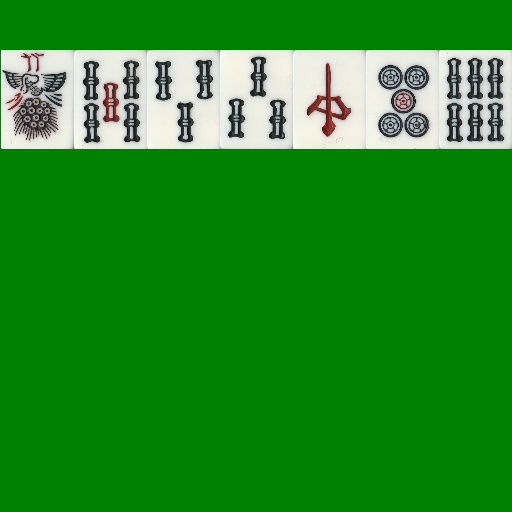1s: (1, 50, 74, 149)
3s: (147, 50, 220, 149), (220, 50, 293, 149)
5p: (366, 50, 439, 149)
5s: (74, 50, 147, 149)
6s: (439, 50, 512, 149)
tyun: (293, 50, 366, 149)
